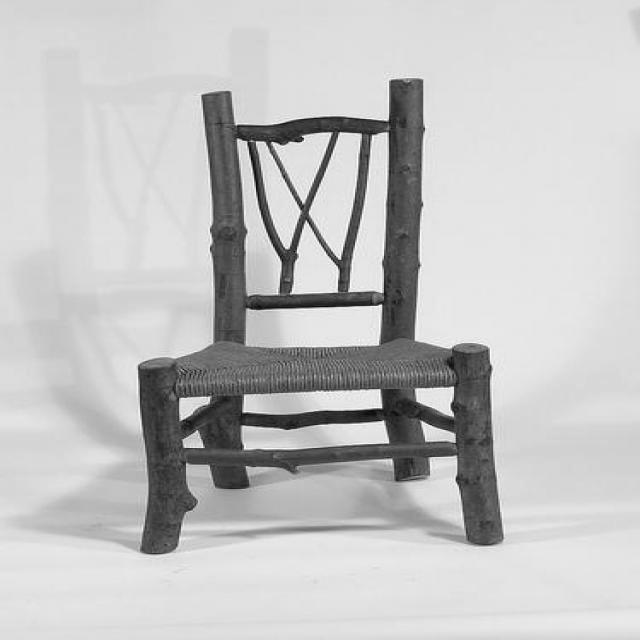chair: (123, 73, 507, 554)
